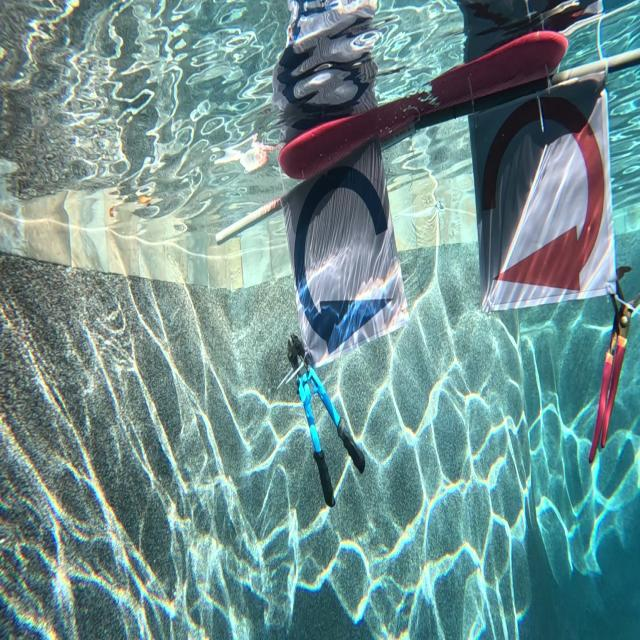blue_side: (287, 143, 402, 352)
red_side: (460, 70, 620, 300)
